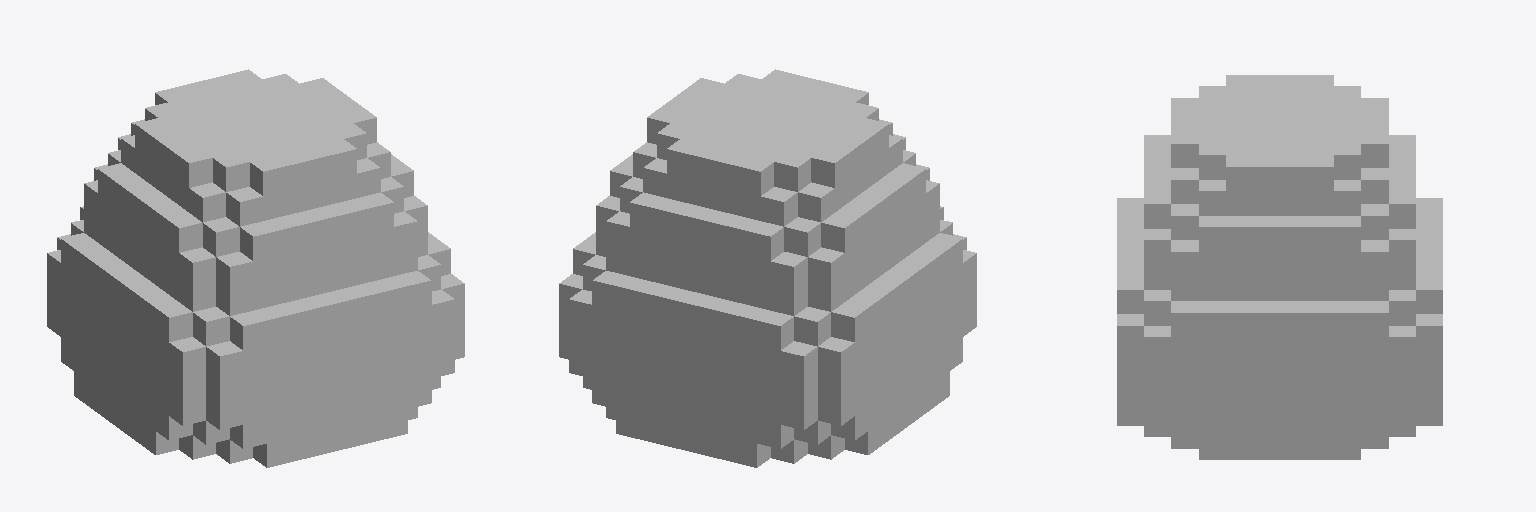
Rendered from stone.obj.
3 views of the same model, side by side, from view 1: azimuth 30°, elevation 25°; view 2: azimuth 150°, elevation 25°; view 3: azimuth 270°, elevation 25° (orthographic).
Parts seen in each view (by area): view 1: object 1; view 2: object 1; view 3: object 1.
Boxes of the visible parts, x1,y1,x2,y2 form: object 1: [47, 69, 464, 467]; object 1: [559, 69, 976, 467]; object 1: [1117, 75, 1442, 459].
Size of the model in its own units: 1.2 by 1.1 by 1.2.